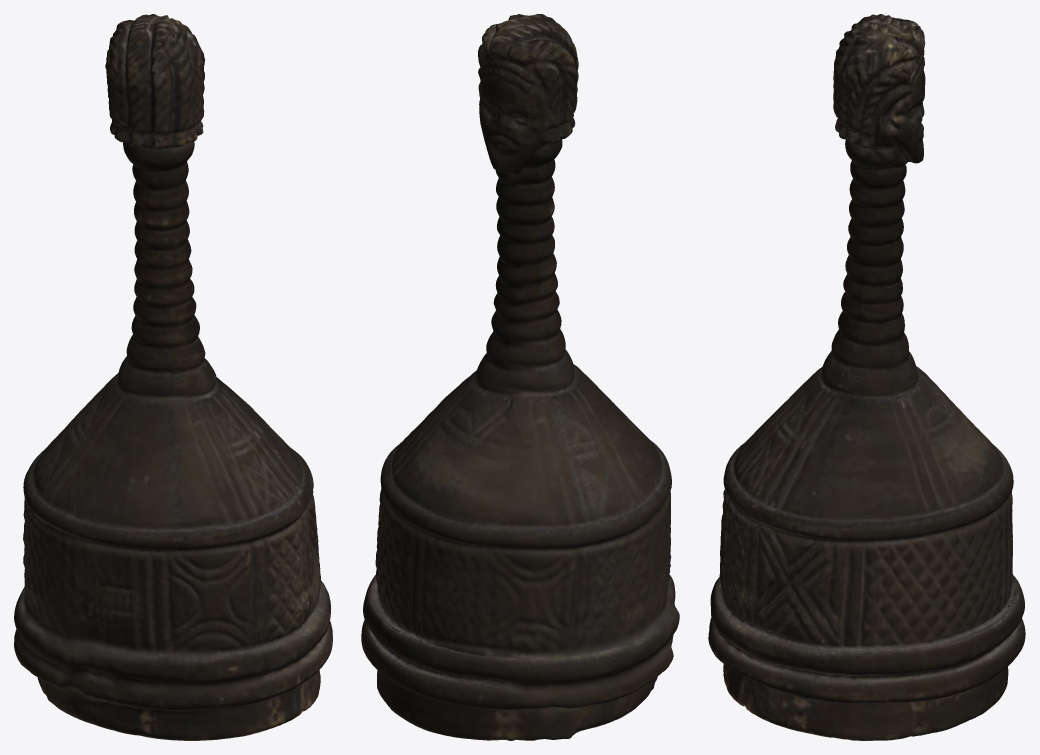
Rendered from preview.glb.
3 views of the same model, side by side, from view 1: azimuth 30°, elevation 25°; view 2: azimuth 150°, elevation 25°; view 3: azimuth 270°, elevation 25° (orthographic). The views are drawn at different scales.
Visible parts, largest first — view 1: Object_2; view 2: Object_2; view 3: Object_2.
Boxes of the visible parts, box(x1,y1,x2,y2) form: Object_2: box(14, 14, 332, 740); Object_2: box(361, 14, 679, 740); Object_2: box(708, 14, 1025, 740).
Size of the model in its own units: 279 by 648 by 284.
Materials: 1 (1 with a texture image).
